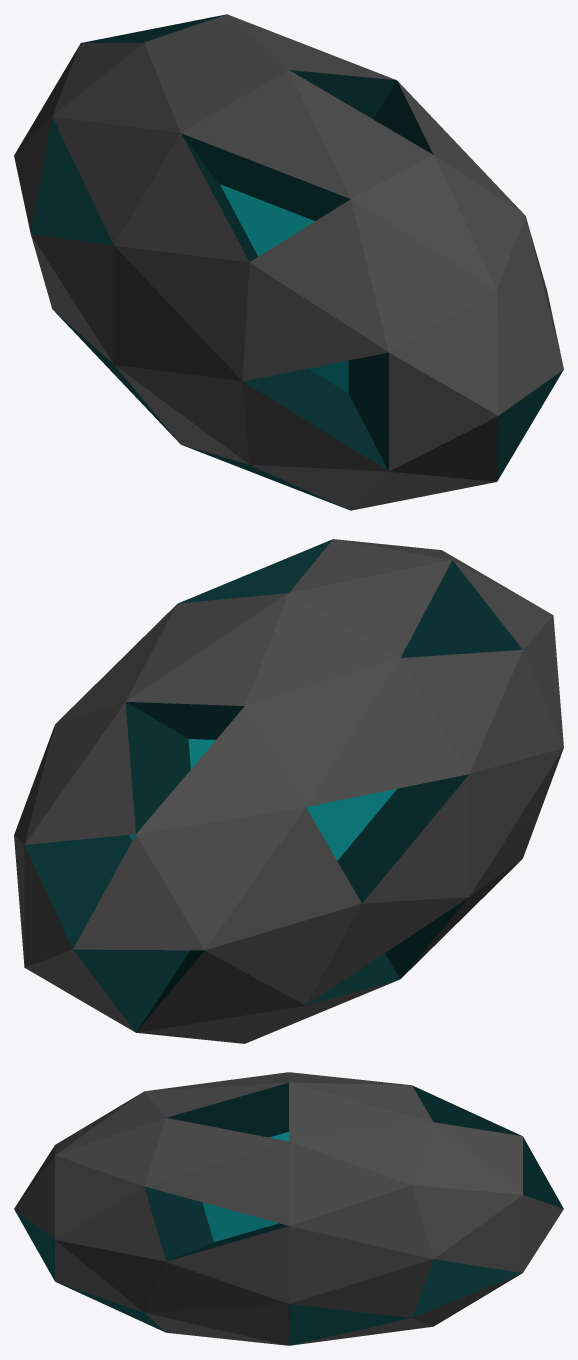
File: meteor 2.fbx
3 views of the same model, one above another, from view 1: azimuth 30°, elevation 25°; view 2: azimuth 150°, elevation 25°; view 3: azimuth 270°, elevation 25° (orthographic). The views are drawn at different scales.
Visible parts, largest first — view 1: Icosphere.002; view 2: Icosphere.002; view 3: Icosphere.002.
Boxes of the visible parts, x1,y1,x2,y2 form: Icosphere.002: [14, 14, 563, 510]; Icosphere.002: [14, 539, 563, 1043]; Icosphere.002: [14, 1072, 563, 1345].
Size of the model in its own units: 190 by 200 by 395.
